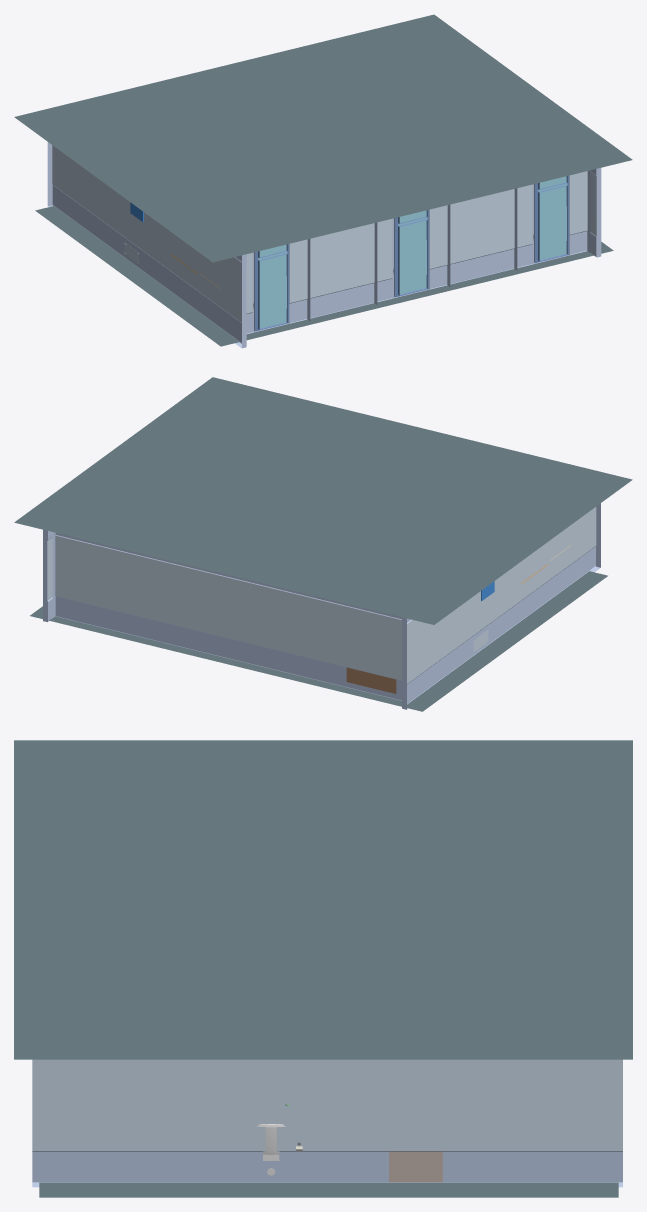
The model's file is sence_3.fbx.
The picture shows the model from 3 angles, top to bottom: view 1: azimuth 30°, elevation 25°; view 2: azimuth 150°, elevation 25°; view 3: azimuth 270°, elevation 25°; orthographic projection. The views are drawn at different scales.
Parts seen in each view (by area): view 1: sence_3; view 2: sence_3; view 3: sence_3.
Part boxes in pixels (x1=…): sence_3: x1=14, y1=14, x2=632, y2=348; sence_3: x1=14, y1=377, x2=632, y2=711; sence_3: x1=14, y1=740, x2=632, y2=1197.
Size of the model in its own units: 1.59 by 0.3424 by 1.3.
3 materials, 1 textured.
